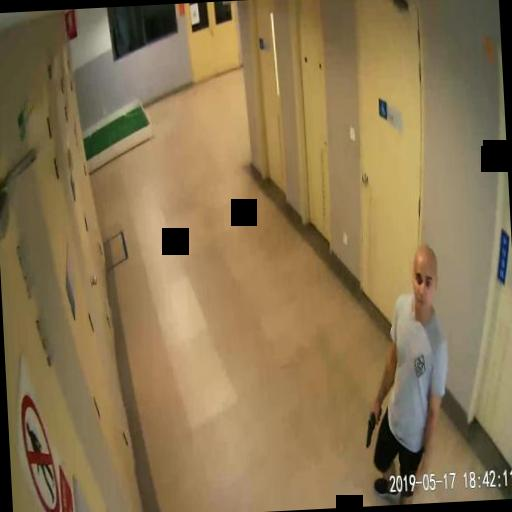Handgun: (363, 404, 382, 446)
